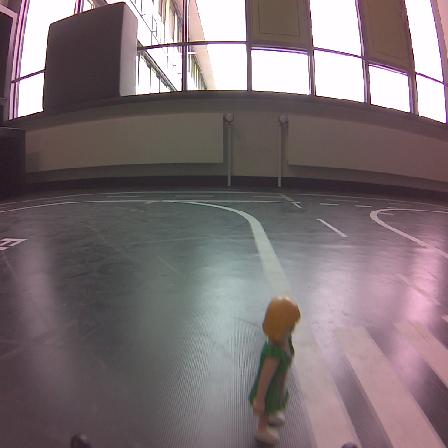PERSON: (250, 296, 300, 443)
